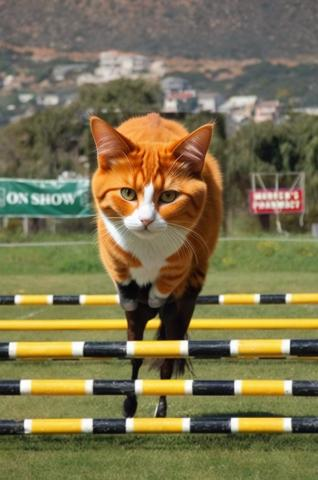cat: (88, 112, 226, 298)
horse: (107, 133, 198, 424)
